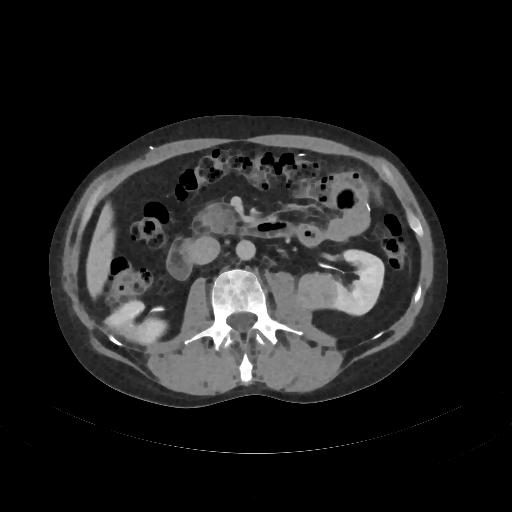Lesion: (294, 268, 342, 314)
